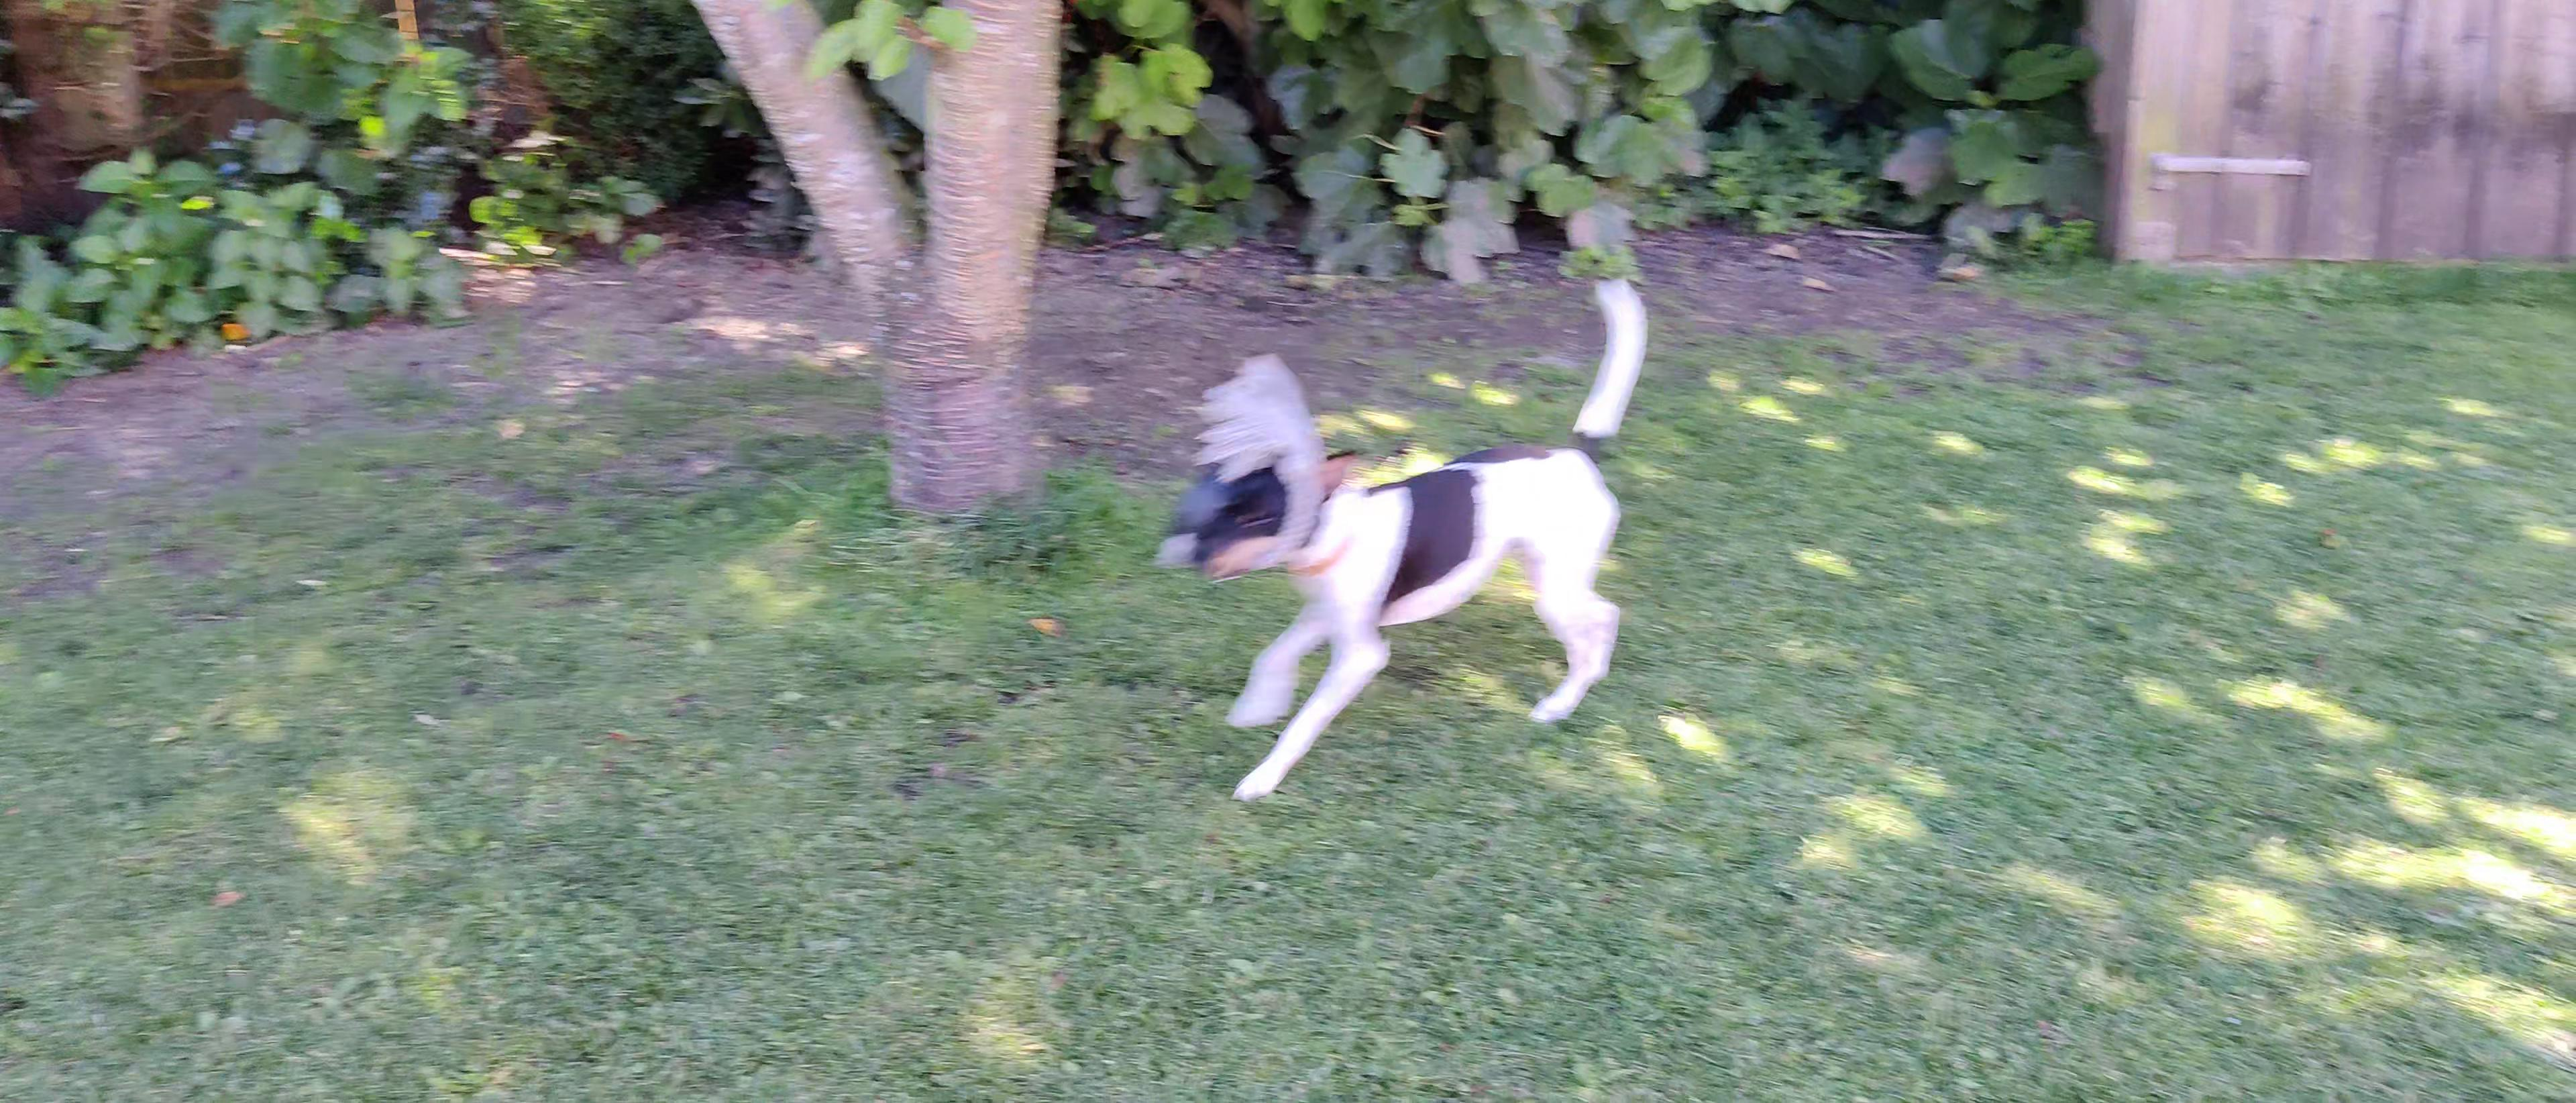Dog: (1181, 276, 1653, 807)
